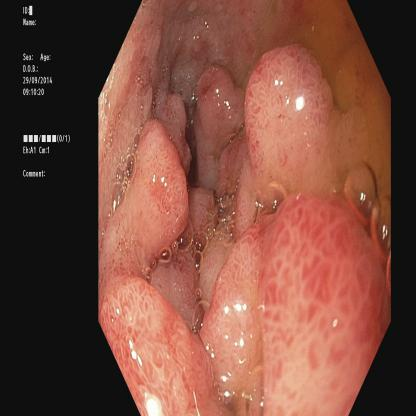Labels: (19, 5, 80, 184)
Polyps: (267, 212, 375, 380), (240, 43, 334, 176), (138, 277, 212, 407), (126, 115, 191, 254), (179, 34, 239, 136)
